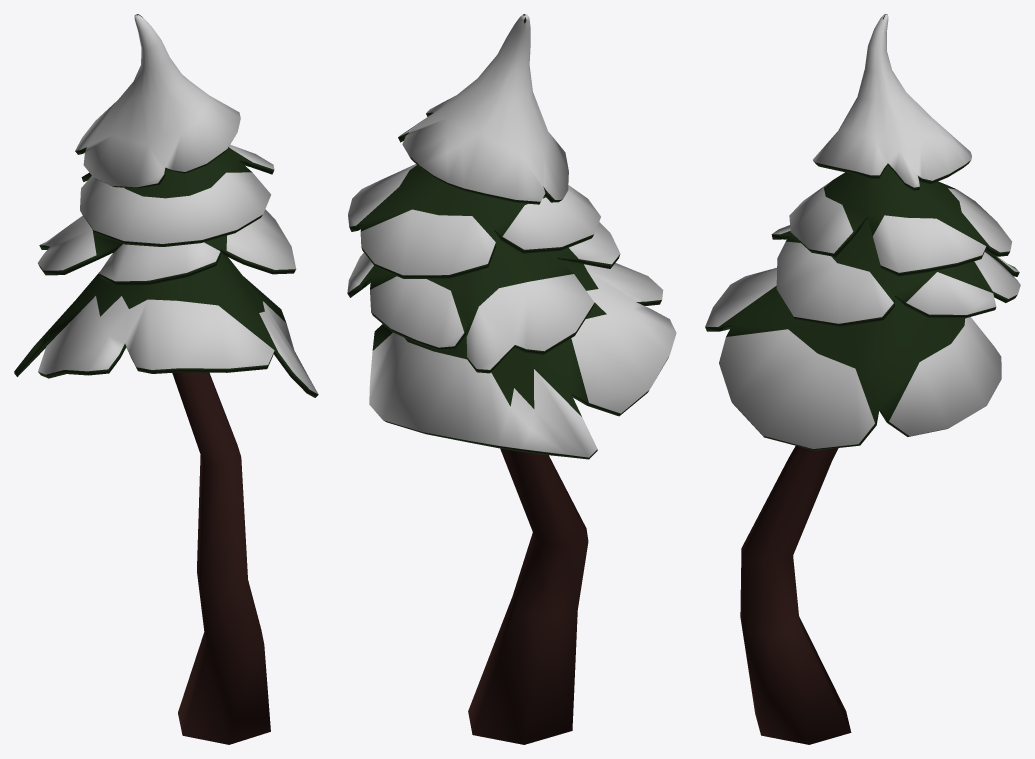
The model's file is PineTree_Snow_4.fbx.
3 renders of one model, left to right at view 1: azimuth 30°, elevation 25°; view 2: azimuth 150°, elevation 25°; view 3: azimuth 270°, elevation 25°, orthographic. The views are drawn at different scales.
Parts seen in each view (by area): view 1: PineTree_Snow_4; view 2: PineTree_Snow_4; view 3: PineTree_Snow_4.
Part boxes in pixels (left/top/right/bottom): PineTree_Snow_4: left=14, top=14, right=318, bottom=744; PineTree_Snow_4: left=347, top=14, right=676, bottom=744; PineTree_Snow_4: left=705, top=14, right=1020, bottom=744.
Size of the model in its own units: 458 by 509 by 1221.
